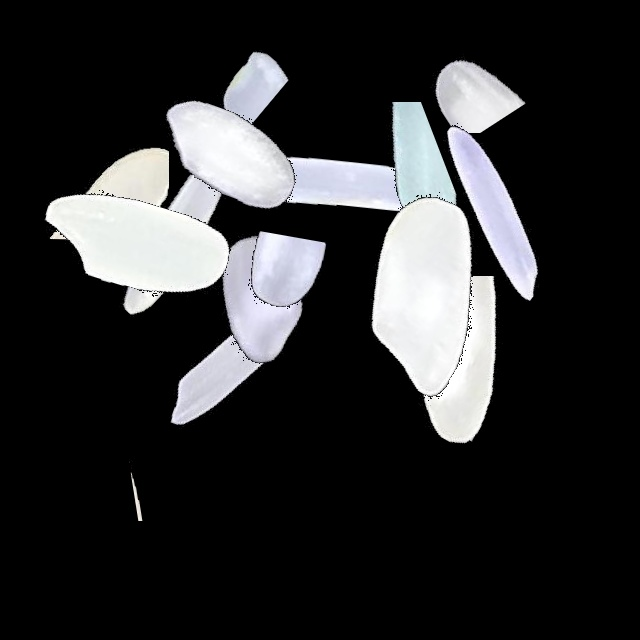Broken: (374, 276, 624, 446), (212, 179, 350, 429), (249, 102, 499, 236), (335, 0, 585, 133), (43, 52, 169, 302), (91, 14, 341, 133), (50, 434, 300, 521)
Full: (224, 59, 474, 309), (52, 105, 302, 355), (301, 165, 551, 415), (364, 87, 614, 337), (98, 249, 348, 499), (137, 172, 387, 422), (104, 31, 354, 281), (8, 118, 258, 368)
